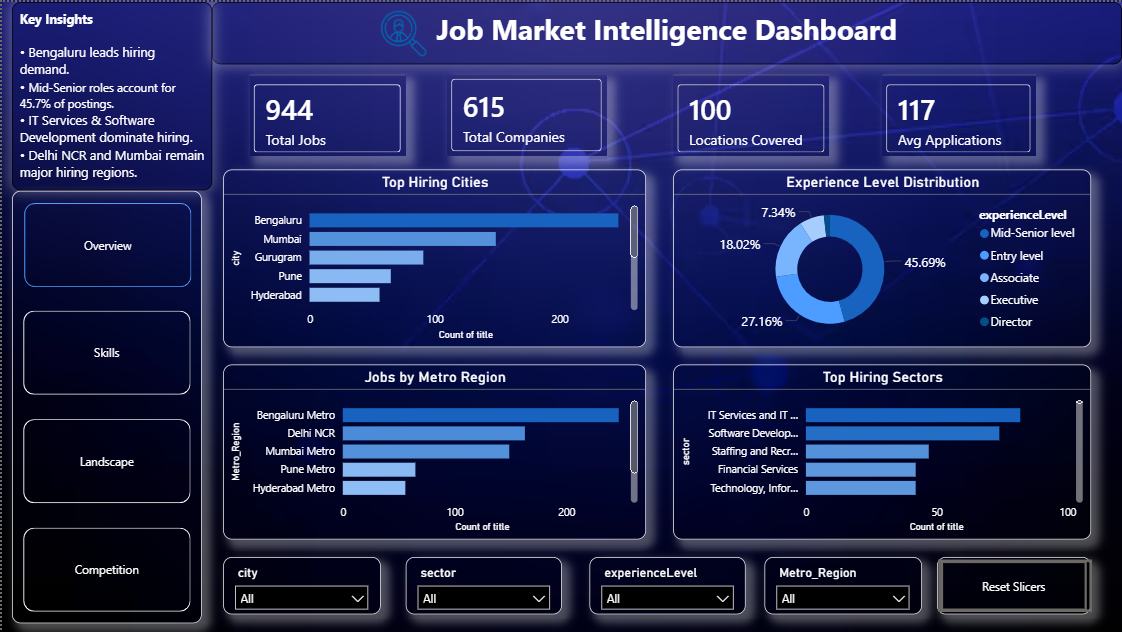

Layout of this report page (visuals, bound fields, positions):
{"tool":"powerbi","page":{"name":"Overview","canvas":[1280,720],"ordinal":0},"visuals":[{"type":"textbox","box":[240.1,0,1040.1,71.4],"z":0},{"type":"cardVisual","fields":{"Data":["LinkedIn_Jobs_Final.Total Jobs"]},"box":[282.7,82.3,178.4,93.3],"z":1000},{"type":"cardVisual","title":"Total Companies","fields":{"Data":["LinkedIn_Jobs_Final.Total Companies"]},"box":[509.1,82.3,182.5,93.3],"z":2000},{"type":"cardVisual","fields":{"Data":["LinkedIn_Jobs_Final.Total Cities"]},"box":[767.1,82.3,178.4,93.3],"z":3000},{"type":"cardVisual","fields":{"Data":["LinkedIn_Jobs_Final.Avg Applications"]},"box":[1005.8,82.3,175.6,93.3],"z":4000},{"type":"clusteredBarChart","title":"Top Hiring Cities","fields":{"Category":["LinkedIn_Jobs_Final.city"],"Y":["CountNonNull(LinkedIn_Jobs_Final.title)"]},"box":[252.5,190.7,483,203.1],"z":5000},{"type":"donutChart","title":"Experience Level Distribution","fields":{"Y":["CountNonNull(LinkedIn_Jobs_Final.title)"],"Category":["LinkedIn_Jobs_Final.experienceLevel"]},"box":[767.1,190.7,477.5,203.1],"z":6000},{"type":"clusteredBarChart","title":"Jobs by Metro Region","fields":{"Category":["LinkedIn_Jobs_Final.Metro_Region"],"Y":["CountNonNull(LinkedIn_Jobs_Final.title)"]},"box":[252.5,414.4,483,200.3],"z":7000},{"type":"slicer","fields":{"Values":["LinkedIn_Jobs_Final.city"]},"box":[252.5,634,179.8,65.9],"z":8000},{"type":"slicer","fields":{"Values":["LinkedIn_Jobs_Final.sector"]},"box":[461.1,634,178.4,65.9],"z":9000},{"type":"slicer","fields":{"Values":["LinkedIn_Jobs_Final.experienceLevel"]},"box":[671,634,178.4,65.9],"z":10000},{"type":"slicer","fields":{"Values":["LinkedIn_Jobs_Final.Metro_Region"]},"box":[871.4,634,179.8,65.9],"z":11000},{"type":"image","box":[424,9.6,70,52.1],"z":12000},{"type":"pageNavigator","box":[11.4,215.7,217.1,494.3],"z":13000},{"type":"actionButton","box":[1069,634,175.6,65.9],"z":14000},{"type":"barChart","title":"Top Hiring Sectors","fields":{"Category":["LinkedIn_Jobs_Final.sector"],"Y":["CountNonNull(LinkedIn_Jobs_Final.title)"]},"box":[767.1,414.4,477.5,200.3],"z":15000},{"type":"textbox","box":[11,0,229.2,215.4],"z":16000},{"type":"actionButton","box":[1070,637.1,175.7,60],"z":17000}]}

Visuals, with their boxes in screenshot pixels (x1, y1, x2, y2), scaled from the page's 1280x720 canvas onto the 1122x632 screenshot:
textbox: bbox(210, 0, 1121, 63)
cardVisual - LinkedIn_Jobs_Final.Total Jobs: bbox(248, 72, 404, 154)
"Total Companies" cardVisual: bbox(446, 72, 606, 154)
cardVisual - LinkedIn_Jobs_Final.Total Cities: bbox(672, 72, 829, 154)
cardVisual - LinkedIn_Jobs_Final.Avg Applications: bbox(882, 72, 1036, 154)
"Top Hiring Cities" clusteredBarChart: bbox(221, 167, 645, 346)
"Experience Level Distribution" donutChart: bbox(672, 167, 1091, 346)
"Jobs by Metro Region" clusteredBarChart: bbox(221, 364, 645, 540)
slicer - LinkedIn_Jobs_Final.city: bbox(221, 557, 379, 614)
slicer - LinkedIn_Jobs_Final.sector: bbox(404, 557, 561, 614)
slicer - LinkedIn_Jobs_Final.experienceLevel: bbox(588, 557, 745, 614)
slicer - LinkedIn_Jobs_Final.Metro_Region: bbox(764, 557, 921, 614)
image: bbox(372, 8, 433, 54)
pageNavigator: bbox(10, 189, 200, 623)
actionButton: bbox(937, 557, 1091, 614)
"Top Hiring Sectors" barChart: bbox(672, 364, 1091, 540)
textbox: bbox(10, 0, 211, 189)
actionButton: bbox(938, 559, 1092, 612)
